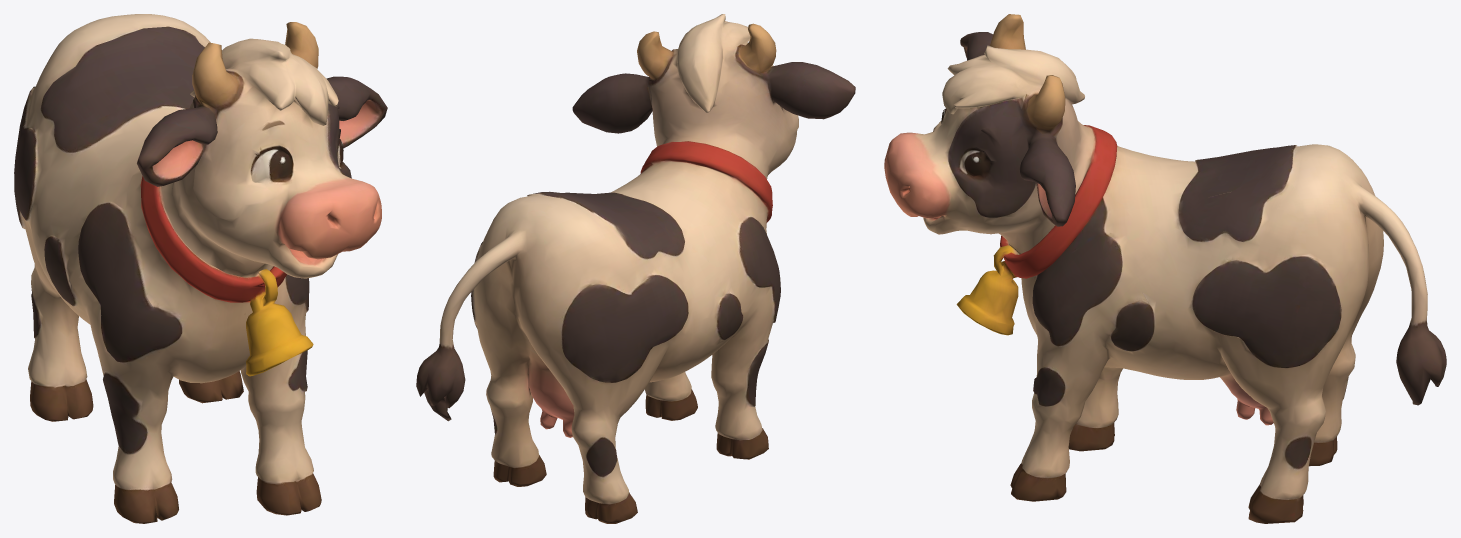
File: cow.glb
The picture shows the model from 3 angles, left to right: view 1: azimuth 30°, elevation 25°; view 2: azimuth 150°, elevation 25°; view 3: azimuth 270°, elevation 25°; orthographic projection. The views are drawn at different scales.
Parts seen in each view (by area): view 1: tripo_node_00866800-74a0-4eb2-859f-b8e4e2576af8; view 2: tripo_node_00866800-74a0-4eb2-859f-b8e4e2576af8; view 3: tripo_node_00866800-74a0-4eb2-859f-b8e4e2576af8.
Part boxes in pixels (box(x1,y1,x2,y2)): tripo_node_00866800-74a0-4eb2-859f-b8e4e2576af8: box(14, 14, 387, 523); tripo_node_00866800-74a0-4eb2-859f-b8e4e2576af8: box(416, 14, 855, 523); tripo_node_00866800-74a0-4eb2-859f-b8e4e2576af8: box(884, 14, 1446, 523).
Size of the model in its own units: 0.5363 by 0.845 by 0.9808.
Materials: 1 (1 with a texture image).
